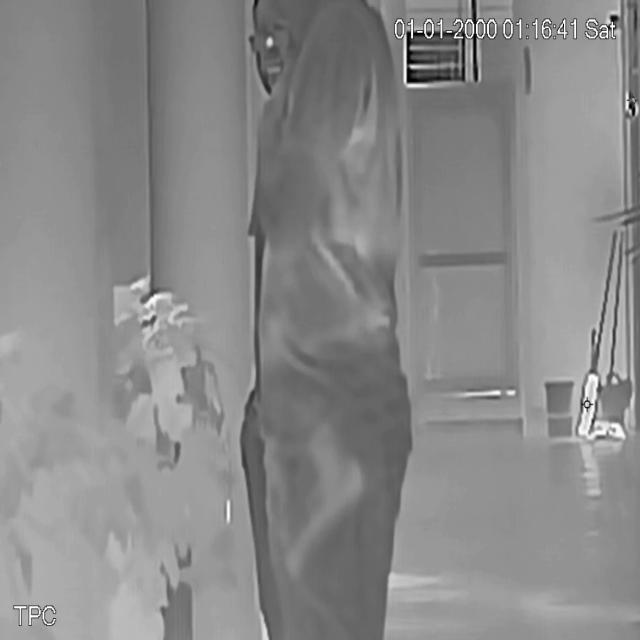Weapon: (278, 422, 388, 578)
